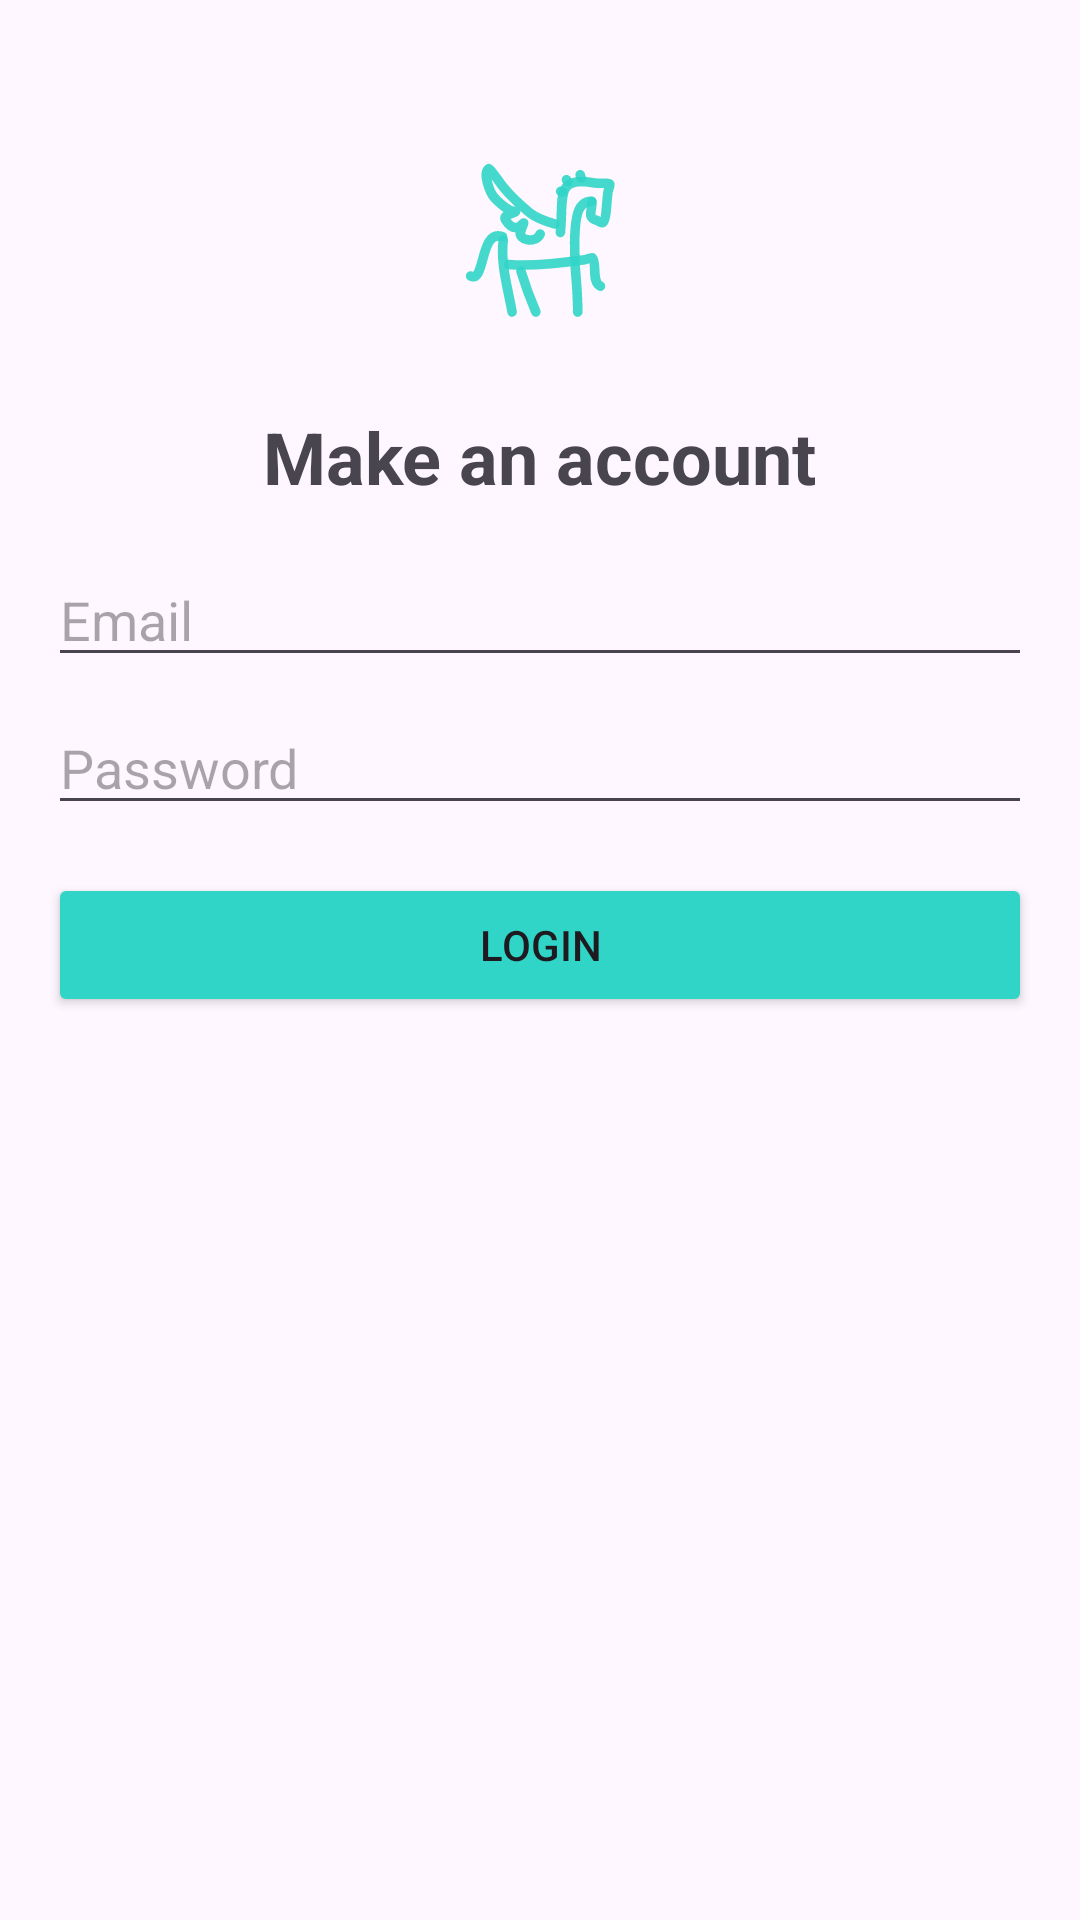

Point at icon controls on the screen. Image size 1080w x 1920h, points as point (x, y).
pegasus: point (540, 240)
